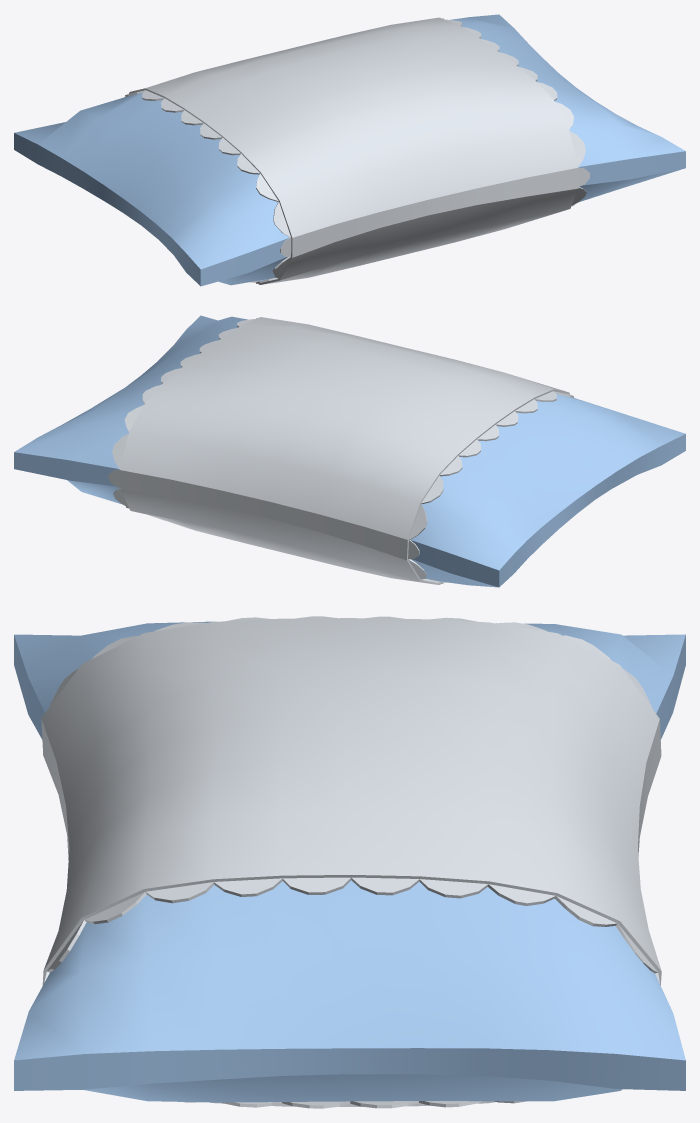
Rendered from makura.fbx.
The picture shows the model from 3 angles, top to bottom: view 1: azimuth 30°, elevation 25°; view 2: azimuth 150°, elevation 25°; view 3: azimuth 270°, elevation 25°; orthographic projection. The views are drawn at different scales.
Parts seen in each view (by area): view 1: pCube1; view 2: pCube1; view 3: pCube1.
Part boxes in pixels (box(x1,y1,x2,y2)): pCube1: box(14, 14, 685, 286); pCube1: box(14, 315, 685, 587); pCube1: box(14, 616, 685, 1108).
Bounding box in the file's own units: 0.2999 × 0.0989 × 0.1999.
Materials: 1 (1 with a texture image).
